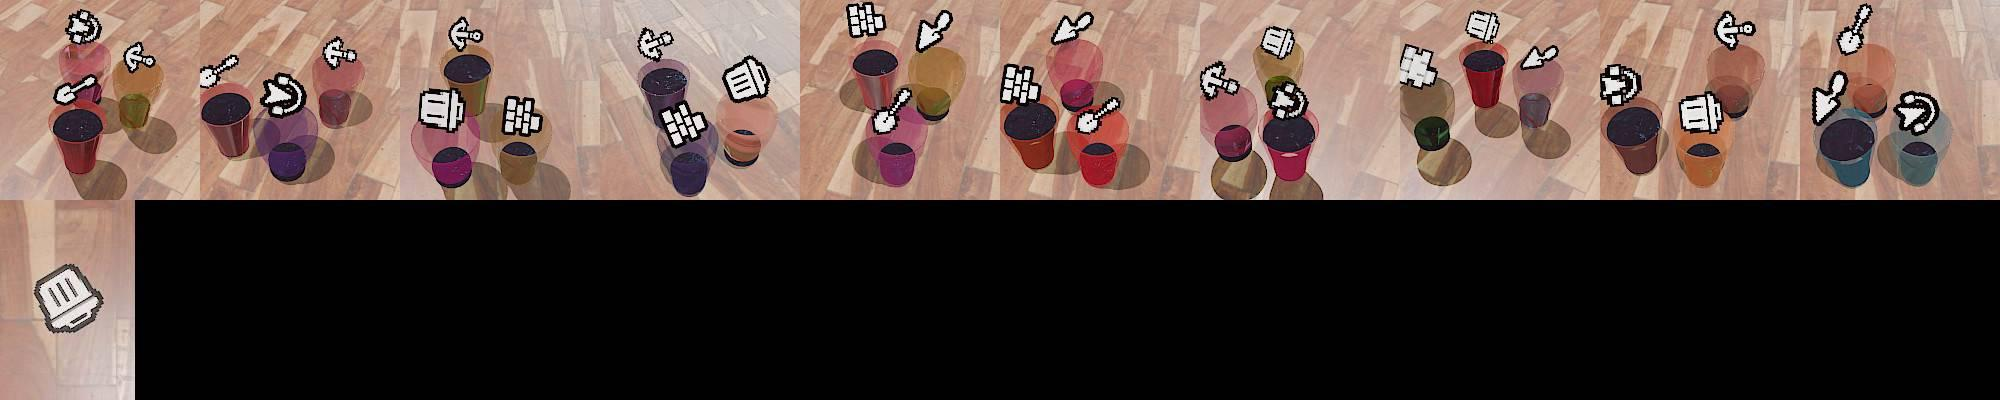icon: (32, 262, 105, 335), (258, 71, 307, 120), (722, 55, 770, 103), (1810, 70, 1851, 126), (659, 99, 708, 146), (867, 85, 913, 135), (418, 85, 464, 132), (1893, 90, 1939, 135), (1835, 3, 1874, 56), (1679, 90, 1726, 134), (1599, 61, 1643, 107), (1074, 94, 1121, 135), (1000, 62, 1043, 106), (501, 93, 543, 138), (1713, 9, 1758, 51), (1398, 43, 1437, 90), (1267, 78, 1310, 120), (915, 9, 954, 55), (52, 71, 102, 106), (1050, 10, 1094, 47), (1200, 60, 1240, 101), (846, 1, 886, 39), (198, 52, 240, 89), (635, 25, 675, 62), (65, 9, 102, 46), (448, 15, 483, 52), (1259, 24, 1296, 60), (1464, 9, 1503, 43), (321, 36, 358, 69), (1520, 42, 1560, 73), (122, 41, 156, 73)
